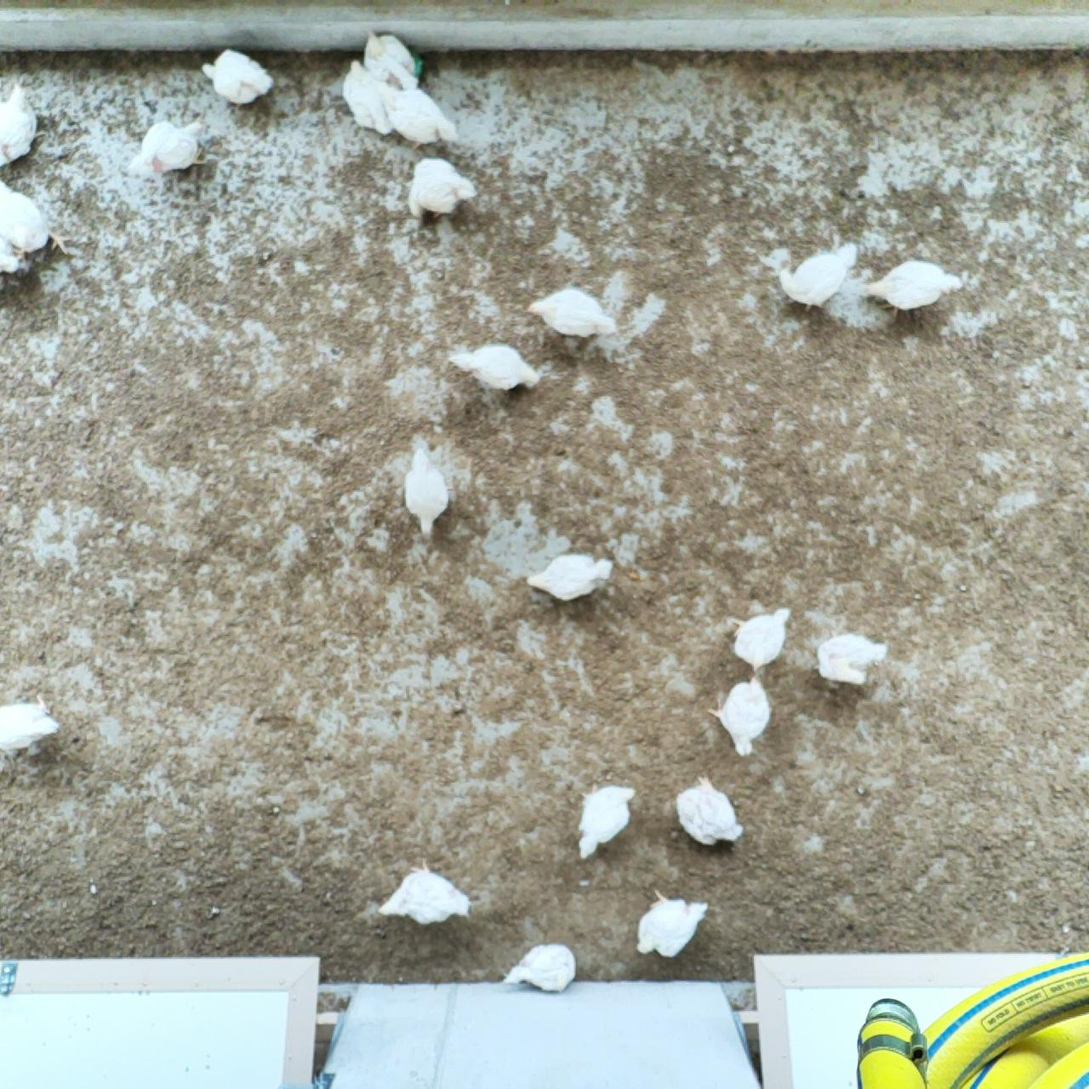chicken: (372, 855, 474, 932), (862, 255, 965, 329), (775, 239, 860, 320), (125, 116, 217, 187), (0, 174, 75, 261), (670, 770, 748, 853), (631, 886, 711, 964), (522, 282, 621, 345), (706, 673, 774, 760), (573, 778, 639, 866), (446, 338, 545, 396), (381, 81, 463, 151), (522, 547, 619, 606), (402, 153, 482, 224), (198, 44, 280, 108), (399, 445, 454, 540), (0, 684, 62, 768), (810, 627, 891, 689), (728, 602, 795, 676), (341, 57, 398, 138), (499, 939, 581, 995), (0, 79, 48, 172), (362, 25, 425, 93)
